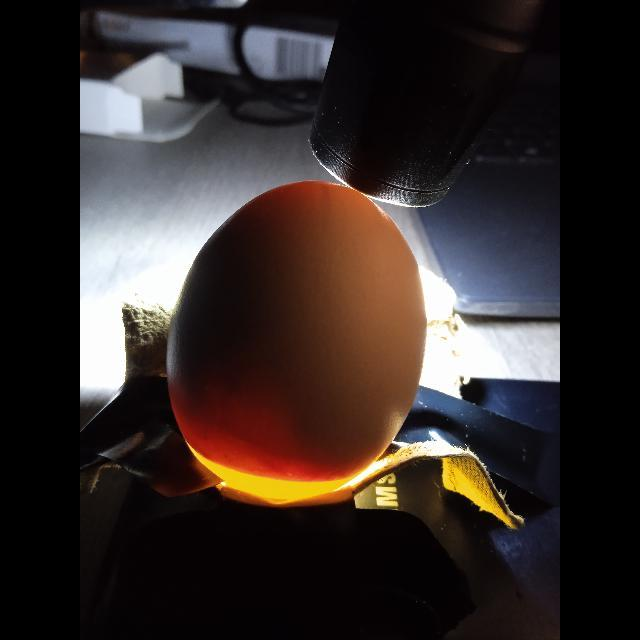Fertile: (164, 180, 428, 502)
